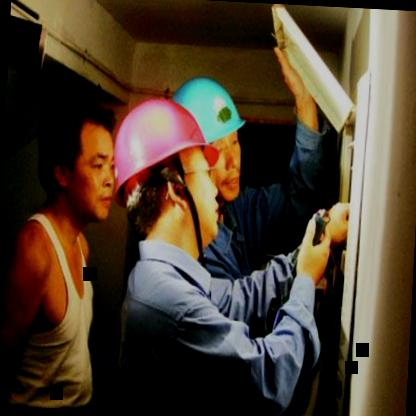head: (31, 98, 116, 226)
helmet: (116, 96, 230, 257), (167, 72, 250, 214)
